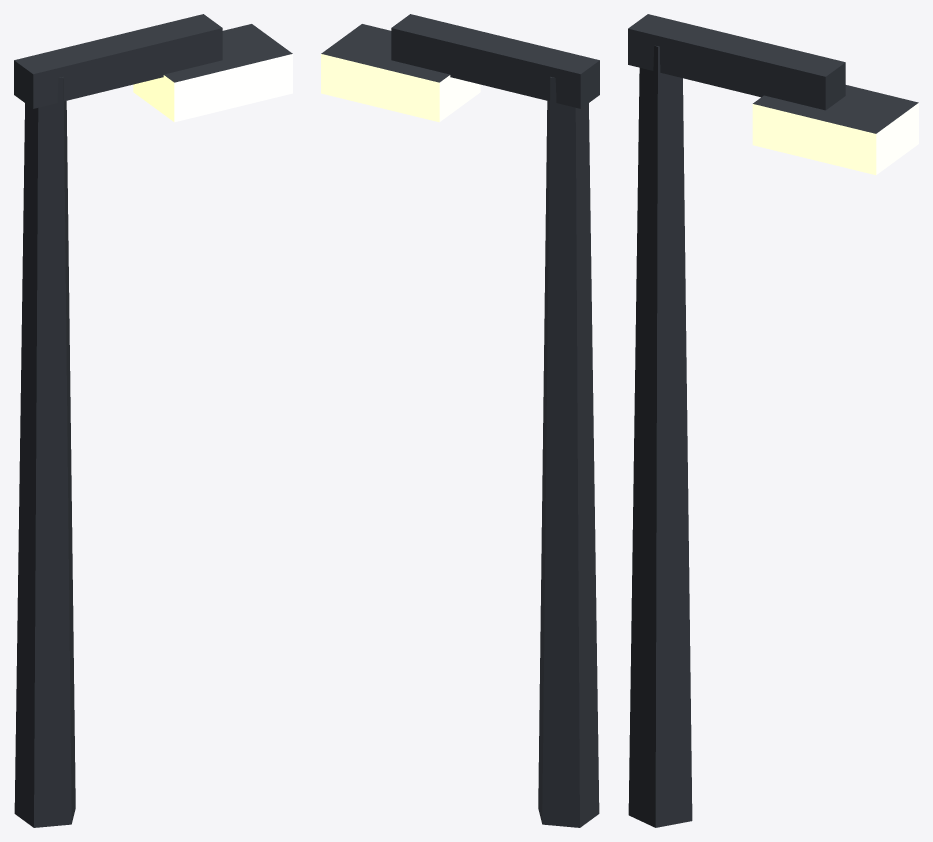
The model's file is lamp.glb.
3 renders of one model, left to right at view 1: azimuth 30°, elevation 25°; view 2: azimuth 150°, elevation 25°; view 3: azimuth 330°, elevation 25°, orthographic. The views are drawn at different scales.
Parts seen in each view (by area): view 1: lamp; view 2: lamp; view 3: lamp.
Boxes of the visible parts, x1,y1,x2,y2 form: lamp: (14, 14, 292, 827); lamp: (321, 14, 599, 827); lamp: (628, 14, 918, 827).
Size of the model in its own units: 0.105 by 0.304 by 0.03.
